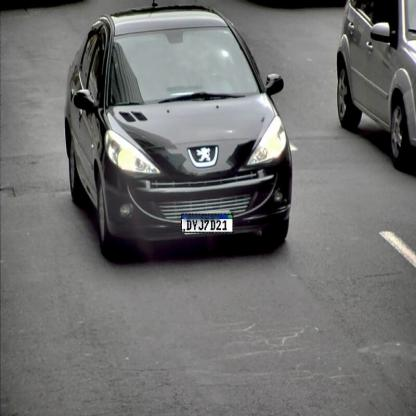PlacaM: (181, 214, 233, 233)
